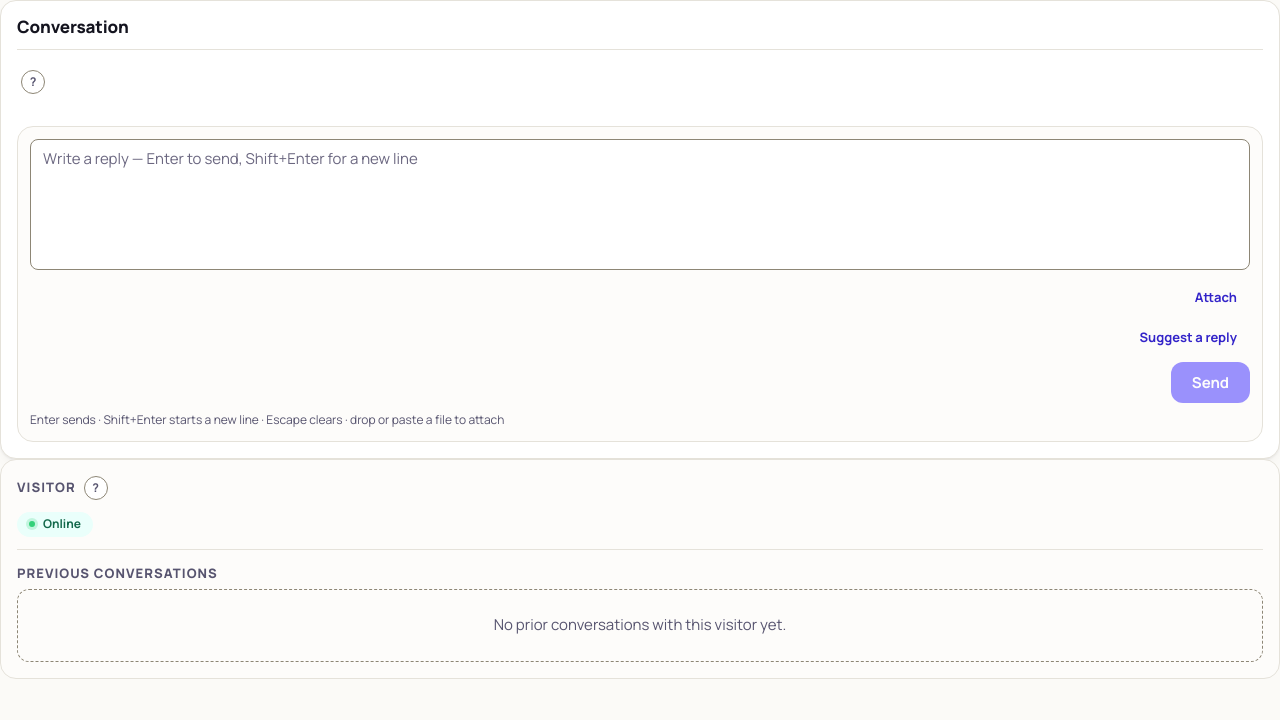
Test case: suggesting a reply (19-01) › shows an unavailable-specific message when the provider is down, distinct from the rate-limit one
The width and height of the screenshot is (1280, 720).
Click the button "Suggest a reply" at (1188, 338), box x1=1126 y1=322 x2=1250 y2=354
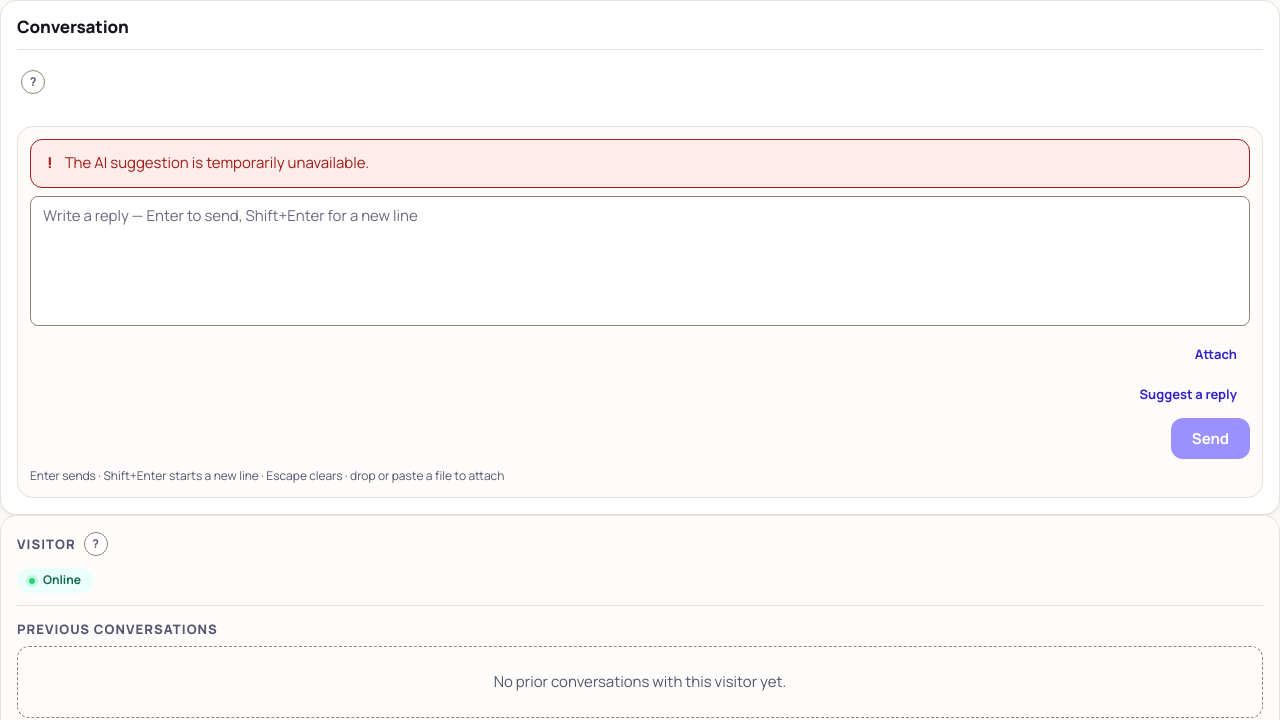
Result: the text "temporarily unavailable" is shown at x1=65 y1=152 x2=369 y2=173
